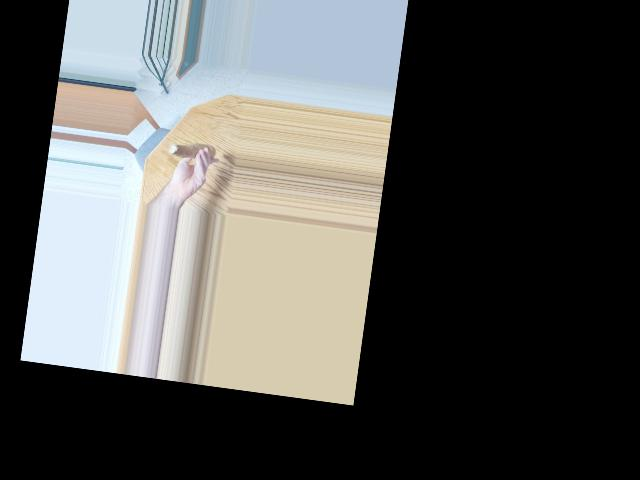sweet_potato: (170, 137, 212, 164)
